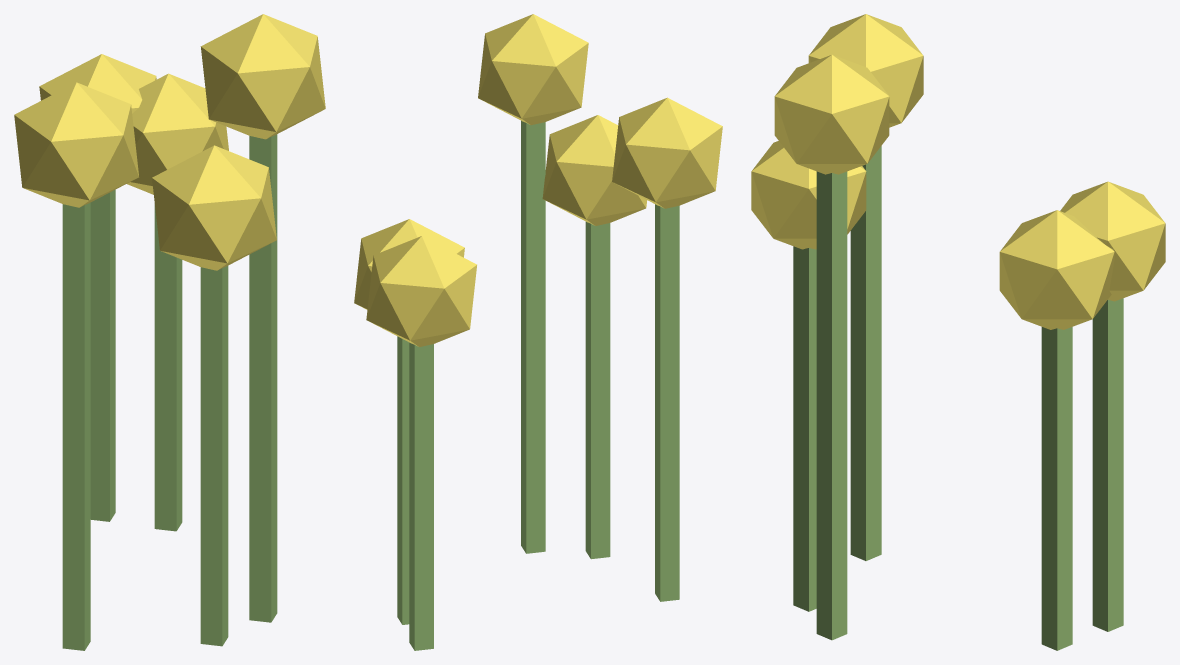
The model's file is SM_Flowers_Yellow.fbx.
The picture shows the model from 3 angles, left to right: view 1: azimuth 30°, elevation 25°; view 2: azimuth 150°, elevation 25°; view 3: azimuth 270°, elevation 25°; orthographic projection. The views are drawn at different scales.
Visible parts, largest first — view 1: SM_Flowers_Yellow; view 2: SM_Flowers_Yellow; view 3: SM_Flowers_Yellow.
Part boxes in pixels (x1=…): SM_Flowers_Yellow: x1=14, y1=14, x2=325, y2=650; SM_Flowers_Yellow: x1=354, y1=14, x2=722, y2=650; SM_Flowers_Yellow: x1=751, y1=14, x2=1165, y2=650.
Size of the model in its own units: 0.1726 by 0.3313 by 0.2146.
